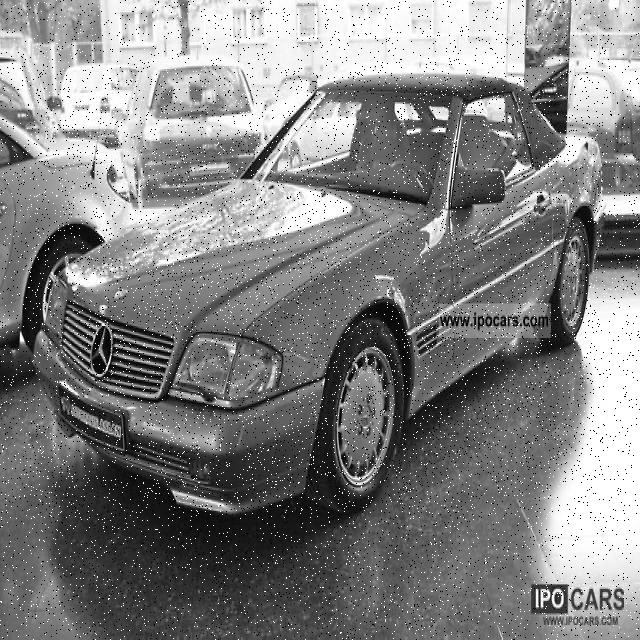Sedan: (34, 71, 603, 518)
